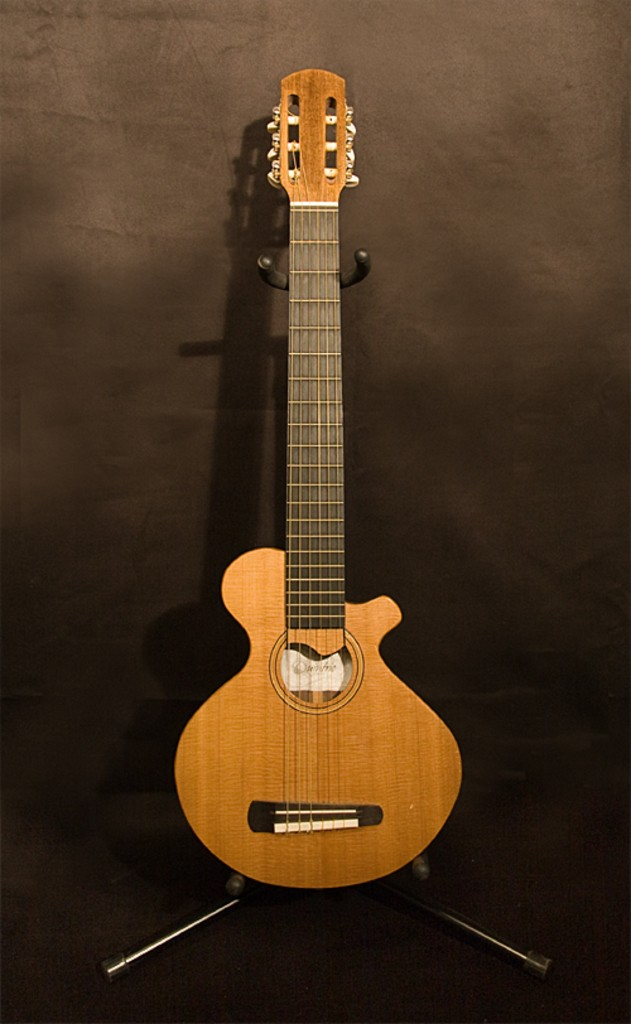guitar: (173, 70, 463, 891)
